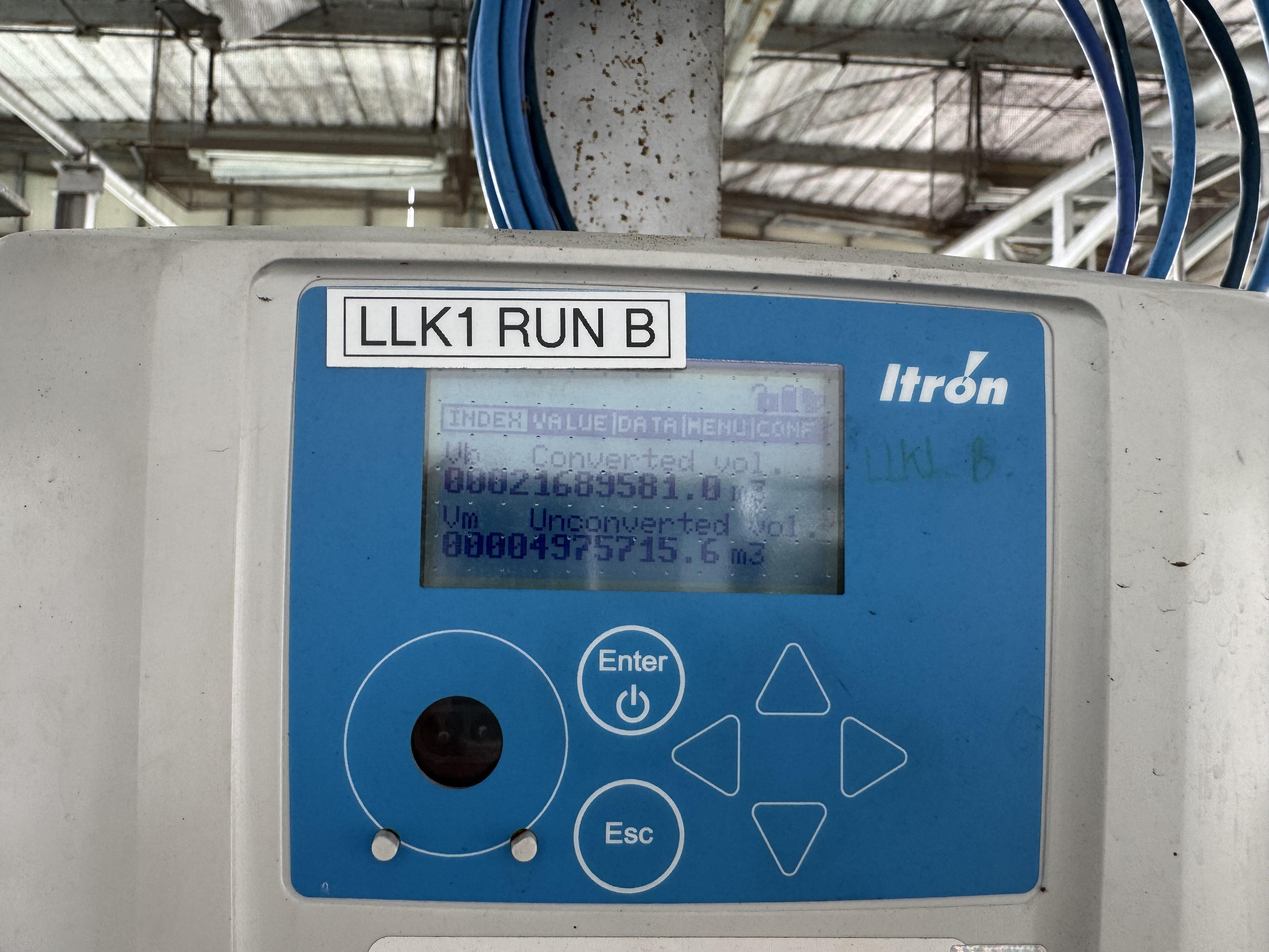digital_screen: (420, 353, 850, 598)
